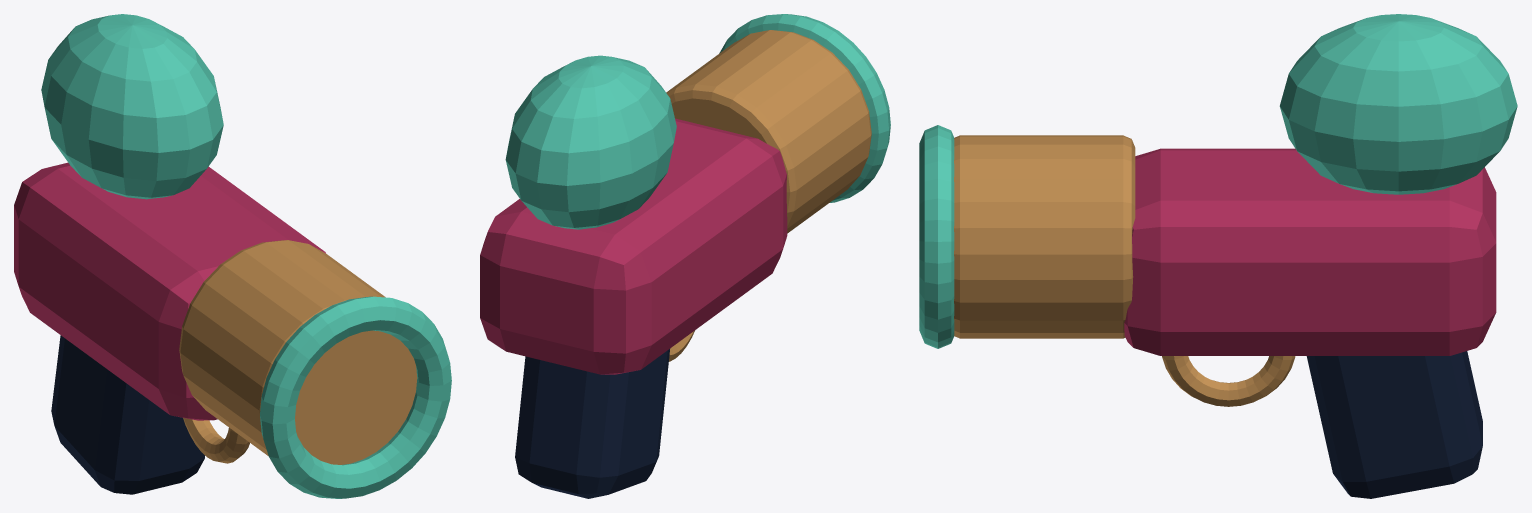
Rendered from Item_bubble_gun.fbx.
3 views of the same model, side by side, from view 1: azimuth 30°, elevation 25°; view 2: azimuth 150°, elevation 25°; view 3: azimuth 270°, elevation 25° (orthographic). The views are drawn at different scales.
Visible parts, largest first — view 1: Item_bubble_gun.Mesh; view 2: Item_bubble_gun.Mesh; view 3: Item_bubble_gun.Mesh.
Part boxes in pixels (x1,y1,x2,y2): Item_bubble_gun.Mesh: [14, 14, 451, 498]; Item_bubble_gun.Mesh: [480, 14, 890, 498]; Item_bubble_gun.Mesh: [919, 14, 1517, 498].
Bounding box in the file's own units: 26.4 × 60.2 × 70.4.
